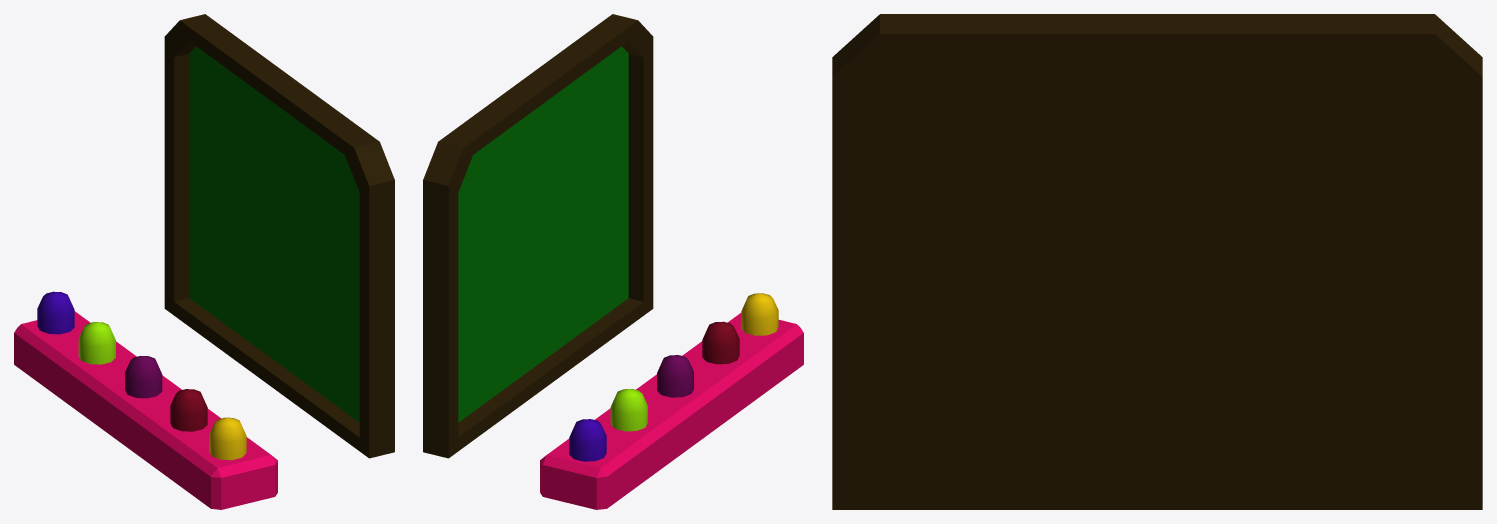
The model's file is Slider Object.fbx.
3 renders of one model, left to right at view 1: azimuth 30°, elevation 25°; view 2: azimuth 150°, elevation 25°; view 3: azimuth 270°, elevation 25°, orthographic. The views are drawn at different scales.
Visible parts, largest first — view 1: Board1, InfoSheet; view 2: Board1, InfoSheet; view 3: Board1.
Boxes of the visible parts, <box> form: Board1: <box>14,14,394,509</box>; InfoSheet: <box>189,46,359,422</box>; Board1: <box>423,14,803,509</box>; InfoSheet: <box>458,46,628,422</box>; Board1: <box>832,14,1482,509</box>.
Size of the model in its own units: 150 by 251 by 296.
